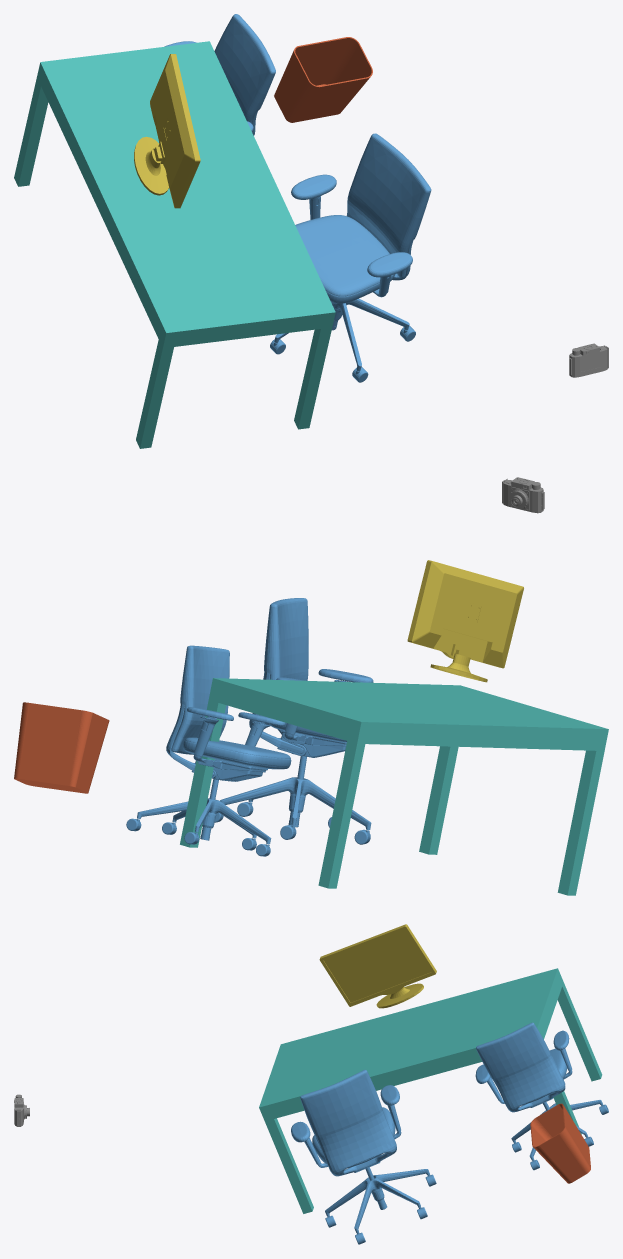
The model's file is mesh_desk.glb.
The picture shows the model from 3 angles, top to bottom: view 1: azimuth 30°, elevation 25°; view 2: azimuth 150°, elevation 25°; view 3: azimuth 270°, elevation 25°; orthographic projection. The views are drawn at different scales.
Visible parts, largest first — view 1: world; view 2: world; view 3: world.
Part boxes in pixels (x1=…): world: x1=14, y1=14, x2=608, y2=448; world: x1=14, y1=477, x2=608, y2=895; world: x1=14, y1=924, x2=608, y2=1244.
Size of the model in its own units: 1.9 by 1.66 by 3.41.
